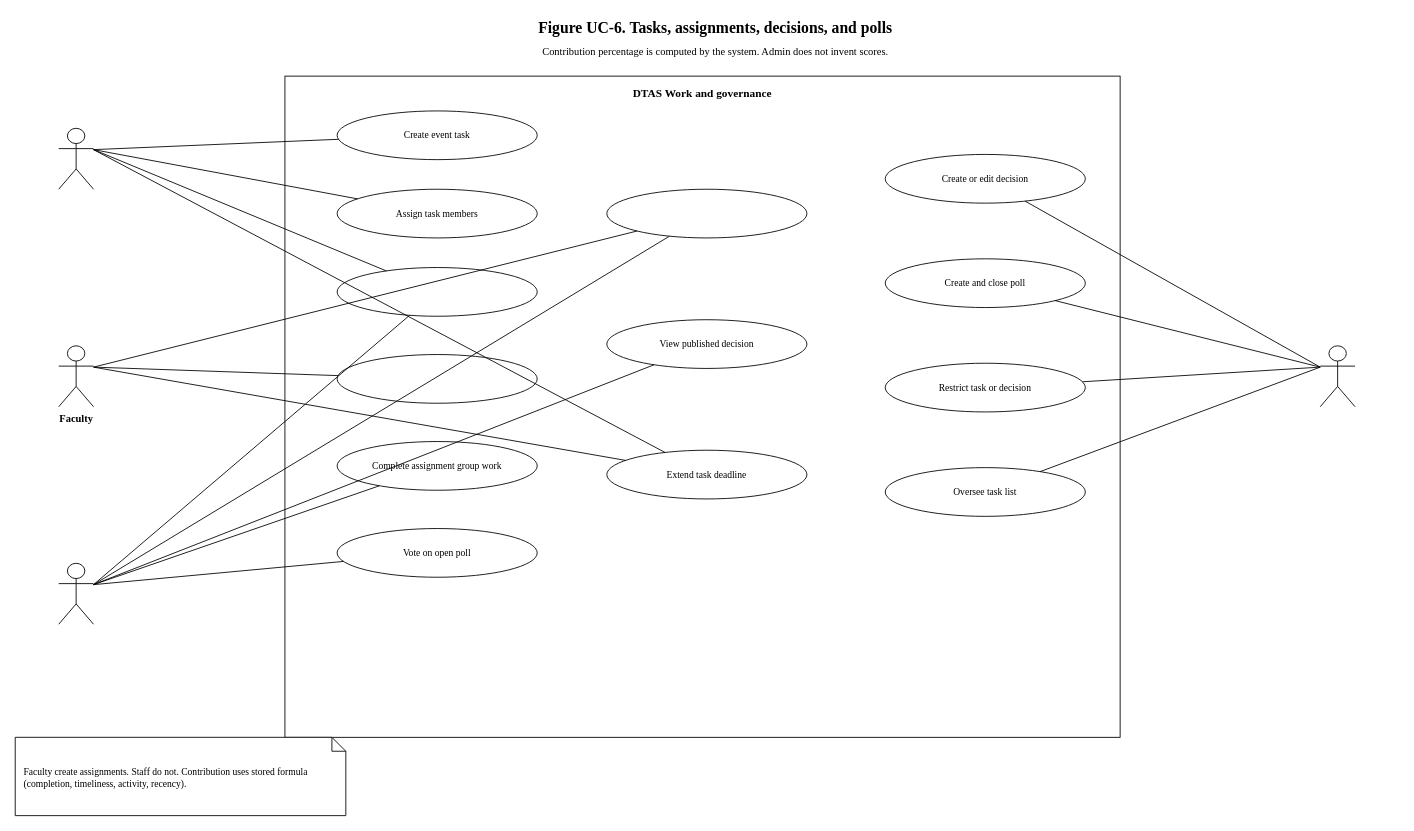
Image size: 1414x831. Some labels were removed from this diagram. Here are the shapes that lost their labels. From the top down, the centre of each, then its label:
At pixel 76 158: "Event Manager".
At pixel 706 213: "View contribution report".
At pixel 436 291: "Work in task workspace".
At pixel 436 378: "Create assignment".
At pixel 1337 376: "System Admin".
At pixel 76 593: "Student".
